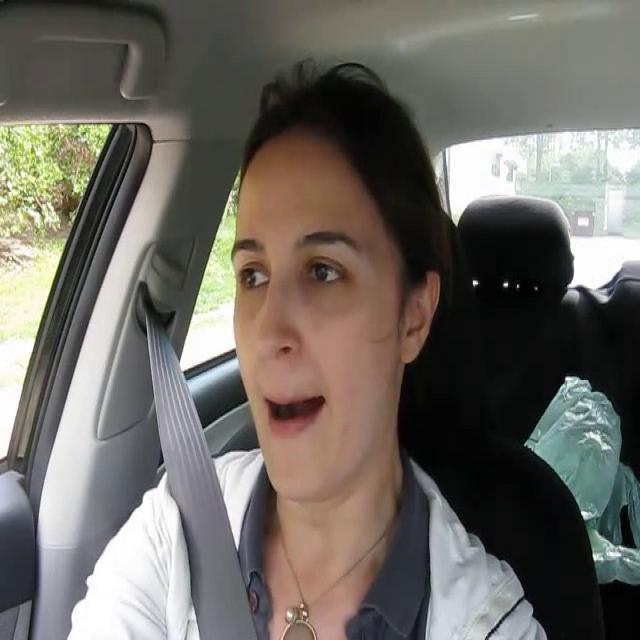open: (284, 224, 360, 308), (227, 227, 277, 309)
